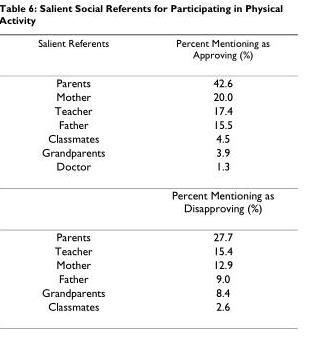table: (37, 36, 273, 312)
table column: (139, 36, 273, 312), (37, 36, 139, 312)
table column header: (37, 36, 273, 67)
table row: (37, 180, 273, 221), (37, 36, 273, 67), (37, 67, 273, 89), (37, 158, 273, 180), (37, 221, 273, 243), (37, 89, 273, 103), (37, 103, 273, 117), (37, 130, 273, 144), (37, 144, 273, 158), (37, 243, 273, 257), (37, 257, 273, 271), (37, 271, 273, 285), (37, 298, 273, 312), (37, 117, 273, 130), (37, 285, 273, 298)
table spanning cell: (37, 158, 139, 221)
